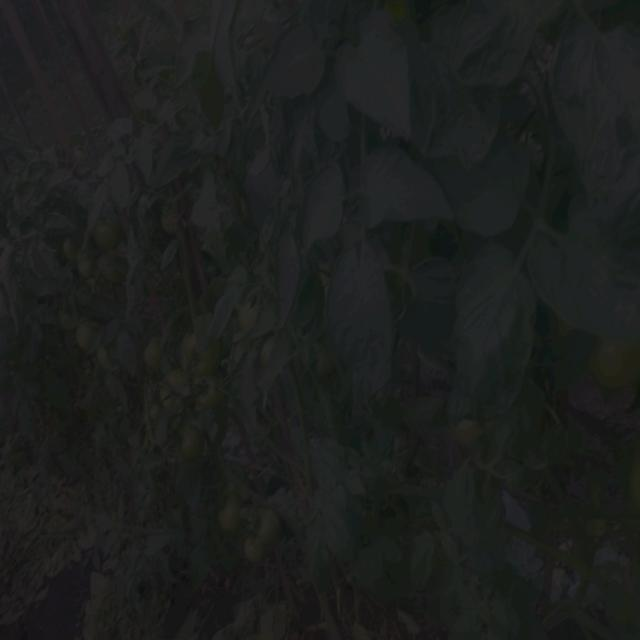tomato: (598, 333, 640, 386), (156, 377, 190, 417), (175, 425, 205, 470), (256, 508, 291, 539), (143, 338, 169, 375), (215, 501, 246, 531), (92, 220, 122, 250), (189, 341, 222, 366), (75, 313, 95, 352), (452, 418, 479, 446), (193, 376, 217, 406), (314, 346, 338, 376), (239, 300, 261, 329), (243, 539, 268, 563), (261, 334, 279, 364), (79, 252, 99, 275)
